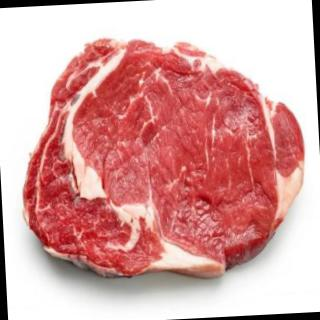Daging Sapi: (17, 29, 312, 282)
